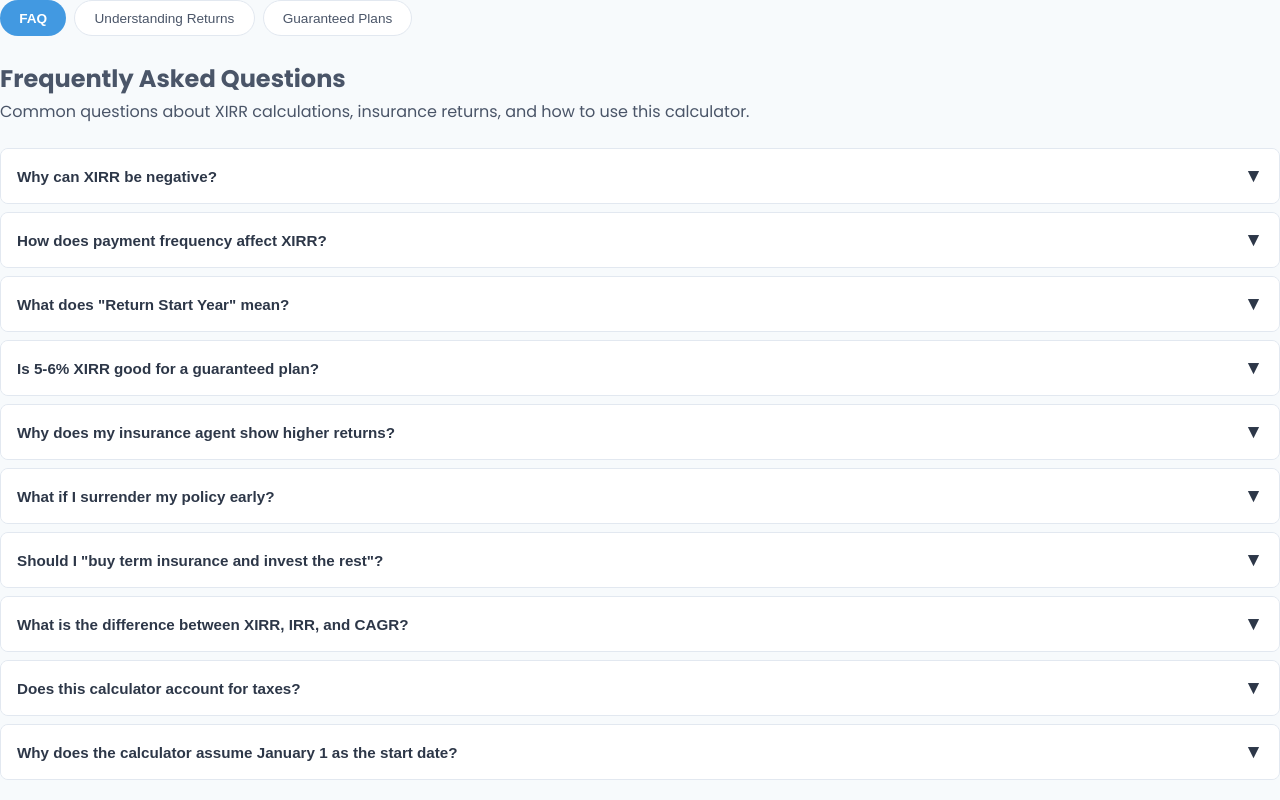
Test: LearnSection Component › switches to Understanding Returns when clicked
The width and height of the screenshot is (1280, 800).
Click the button "Understanding Returns".
click(164, 18)  # box [74,0,254,36]
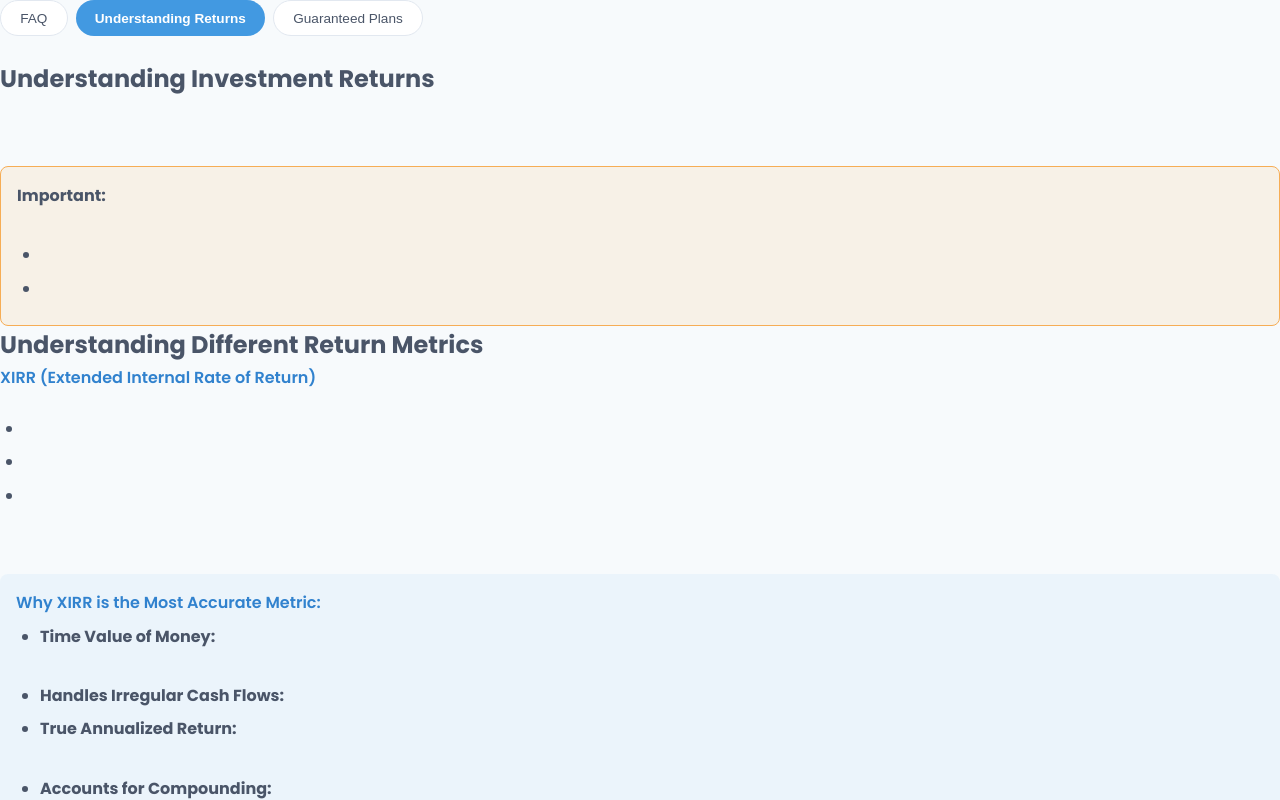
Now the heading "Frequently Asked Questions" is gone
Now the text "XIRR (Extended Internal Rate of Return)" is shown, box [0,366,316,388]
